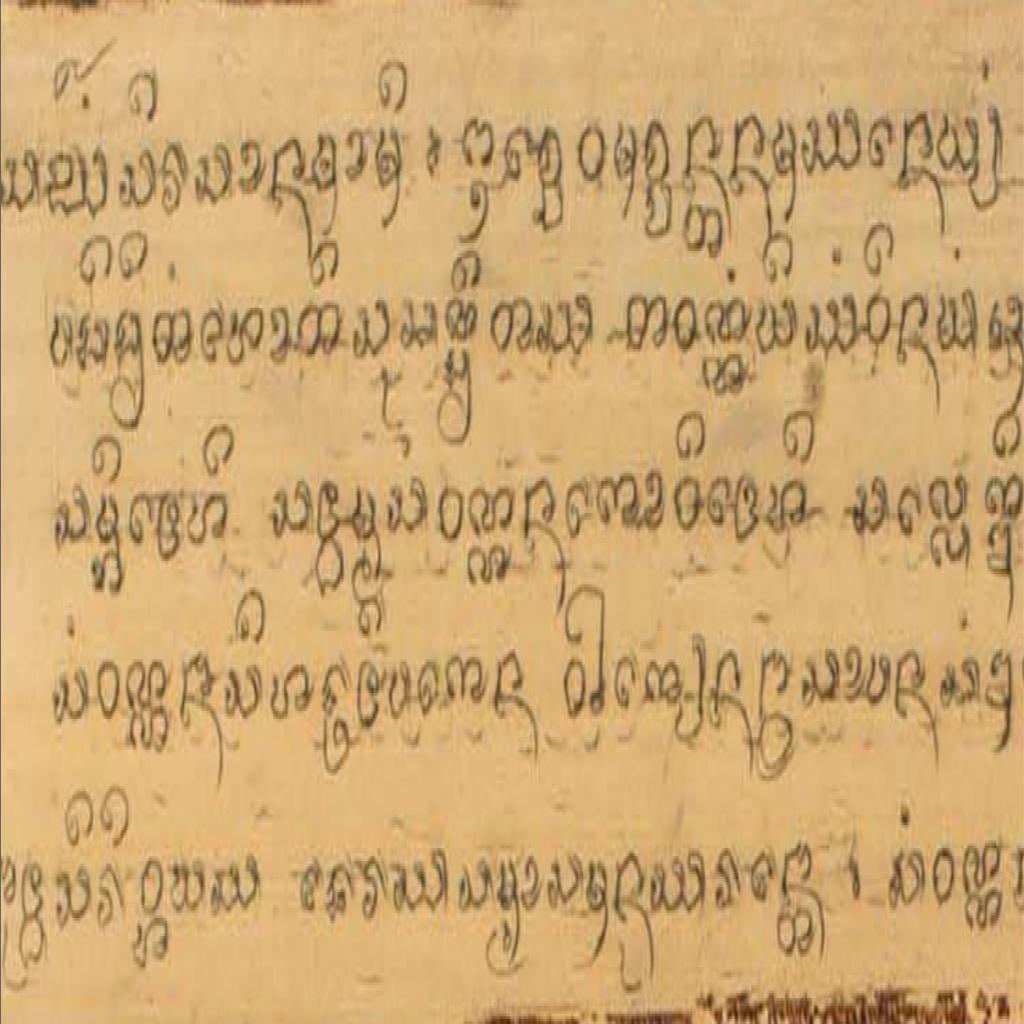LN004: (45, 139, 112, 226)
LN023: (523, 468, 559, 549)
LN038: (352, 294, 392, 366)
LN039: (185, 486, 231, 553)
